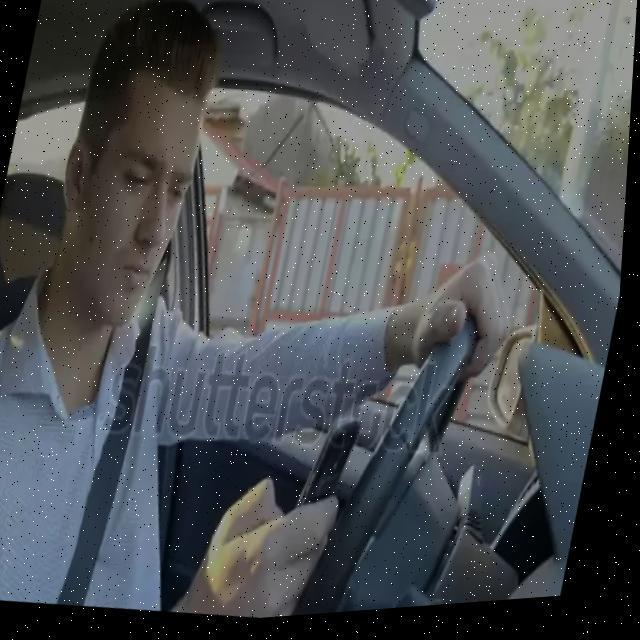PhoneCall: (295, 410, 369, 554)
